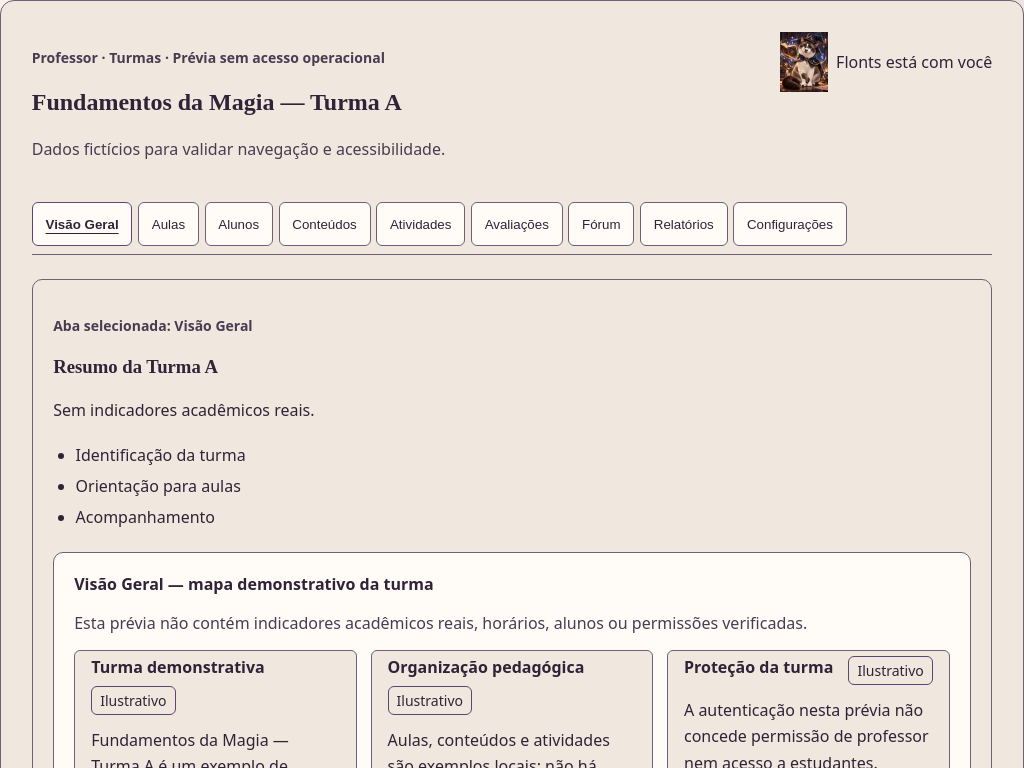
Scenario: Professor Turma A tabs prototype › selects Aulas and Alunos without loading sensitive data
Click the tab "Aulas" at (168, 224), box top-left (138, 202), bottom-right (199, 246)
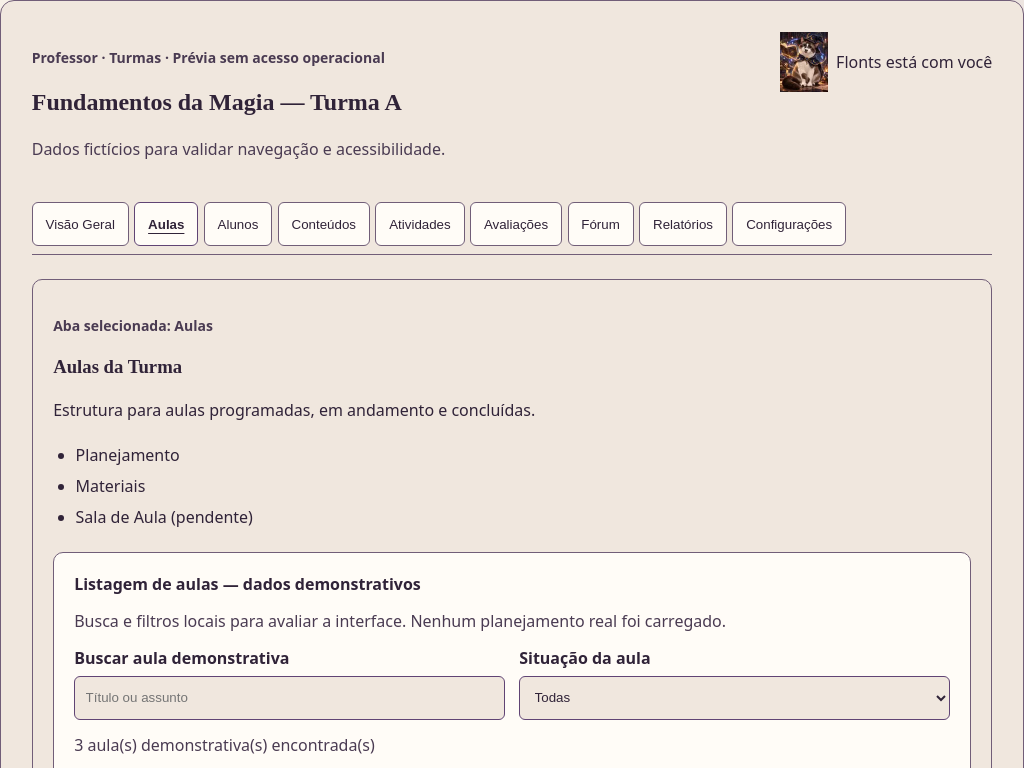
Now the panel shows "Aulas da Turma", box top-left (53, 356), bottom-right (182, 377)
Now the search field labelled "Buscar aula demonstrativa" is shown, box top-left (74, 676), bottom-right (505, 720)
Now the text "3 aula(s) demonstrativa(s) encontrada(s)" is shown, box top-left (74, 734), bottom-right (375, 756)
Click the tab "Alunos" at (238, 224), box top-left (204, 202), bottom-right (272, 246)
(page scrolled)
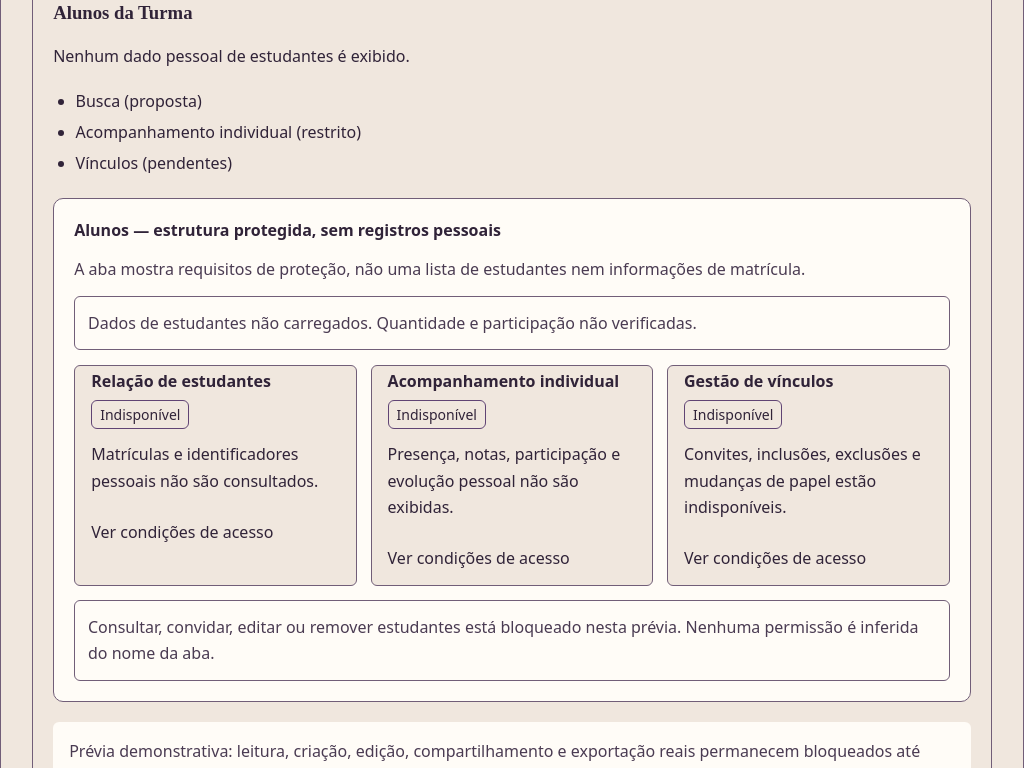
Now the panel shows "Nenhum dado pessoal de estudantes", box top-left (53, 45), bottom-right (410, 67)
Now the text "Buscar aula demonstrativa" is gone
